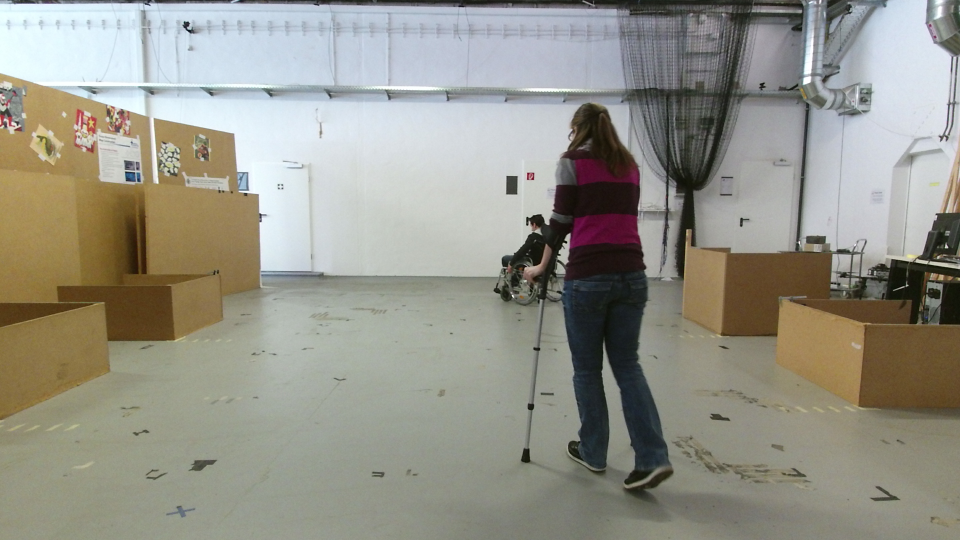crutches: (516, 95, 677, 496)
wheelchair: (493, 209, 566, 304)
